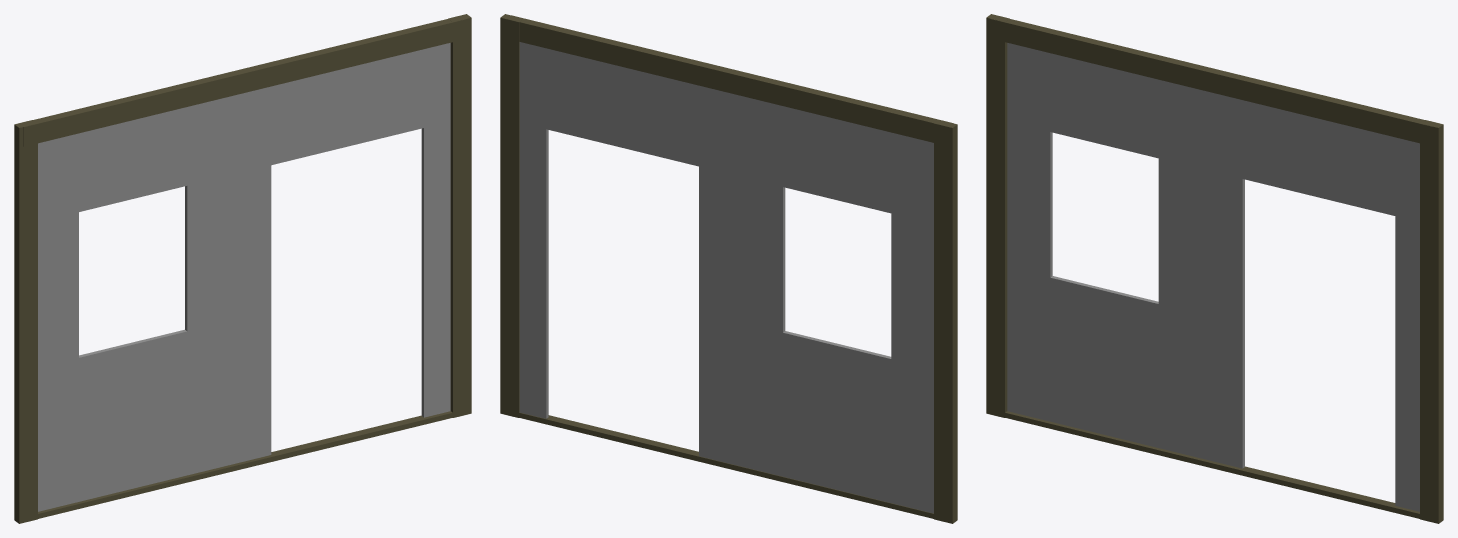
File: wall 2 front bare.fbx
3 renders of one model, left to right at view 1: azimuth 30°, elevation 25°; view 2: azimuth 150°, elevation 25°; view 3: azimuth 330°, elevation 25°, orthographic.
Parts seen in each view (by area): view 1: wall front001, merge beam010, merge beam009, merge beam008, merge beam011; view 2: wall front001, merge beam010, merge beam009, merge beam008, merge beam011; view 3: wall front001, merge beam010, merge beam008, merge beam009, merge beam011.
Part boxes in pixels (x1,y1,x2,y2): wall front001: (38,43,450,511); merge beam010: (23,19,465,146); merge beam009: (14,120,37,523); merge beam008: (448,14,471,417); merge beam011: (23,411,465,522); wall front001: (519,42,933,513); merge beam010: (511,15,951,142); merge beam009: (934,120,957,523); merge beam008: (500,14,523,417); merge beam011: (506,410,948,522); wall front001: (1007,43,1419,511); merge beam010: (990,19,1432,146); merge beam008: (1420,120,1443,523); merge beam009: (986,14,1009,417); merge beam011: (991,409,1419,518).
Bounding box in the file's own units: 366 × 306 × 7.32.
